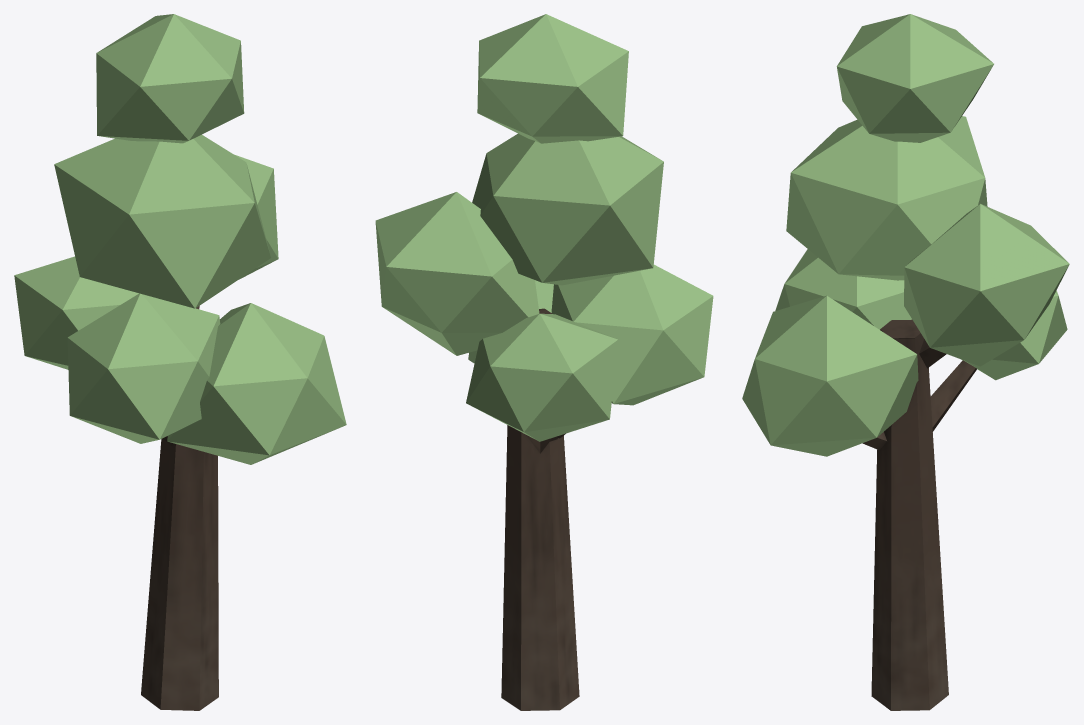
Rendered from arv_carvalho_3.glb.
The picture shows the model from 3 angles, left to right: view 1: azimuth 30°, elevation 25°; view 2: azimuth 150°, elevation 25°; view 3: azimuth 270°, elevation 25°; orthographic projection.
Visible parts, largest first — view 1: arv_carvalho_3; view 2: arv_carvalho_3; view 3: arv_carvalho_3.
Part boxes in pixels (x1,y1,x2,y2): arv_carvalho_3: (14,14,346,710); arv_carvalho_3: (375,14,713,710); arv_carvalho_3: (742,14,1069,710).
Size of the model in its own units: 0.7876 by 1.94 by 0.8455.
2 materials, 1 textured.
